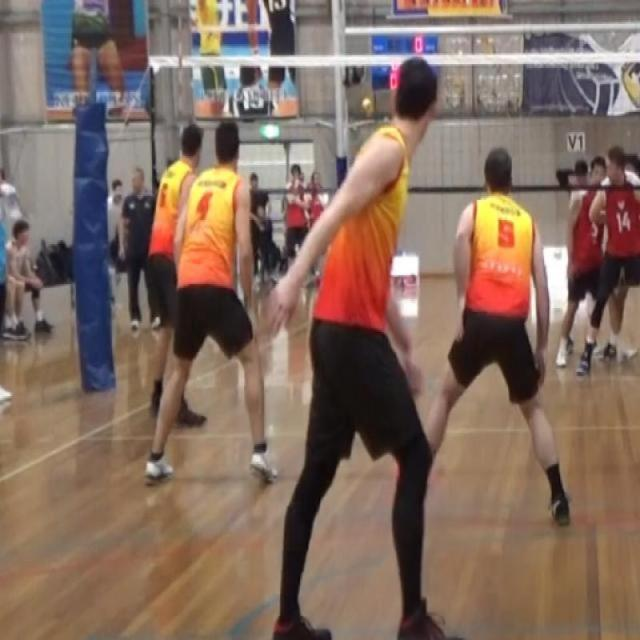volleyball: (359, 95, 376, 121)
